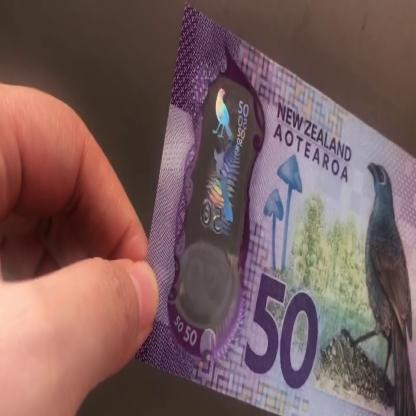50B: (184, 84, 252, 326)
